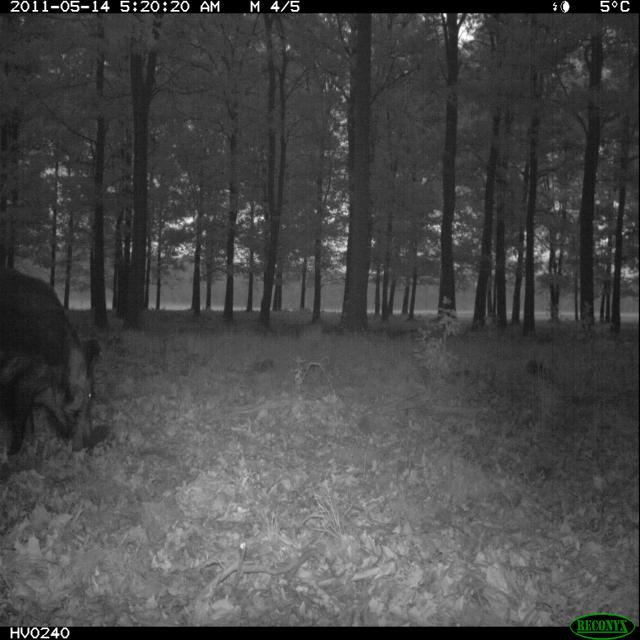boar: (0, 263, 130, 483)
